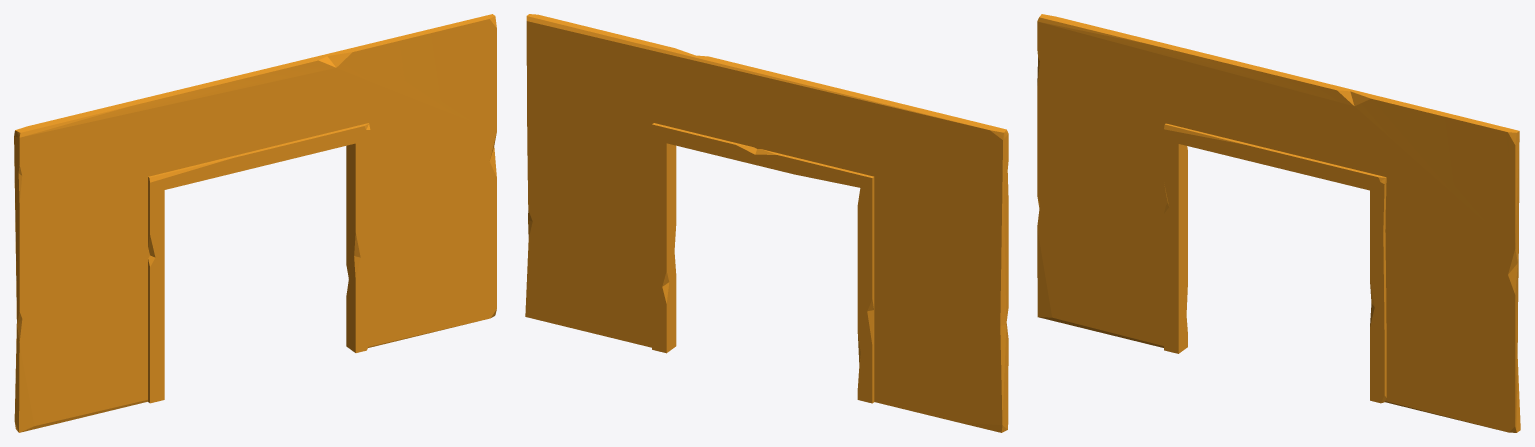
The model's file is SM_Buildings_WallDoorDouble_5x3_01P.fbx.
3 views of the same model, side by side, from view 1: azimuth 30°, elevation 25°; view 2: azimuth 150°, elevation 25°; view 3: azimuth 330°, elevation 25° (orthographic).
Visible parts, largest first — view 1: SM_Buildings_WallDoorDouble_5x3_01P; view 2: SM_Buildings_WallDoorDouble_5x3_01P; view 3: SM_Buildings_WallDoorDouble_5x3_01P.
Boxes of the visible parts, bbox=[...] form: SM_Buildings_WallDoorDouble_5x3_01P: bbox=[14, 14, 496, 432]; SM_Buildings_WallDoorDouble_5x3_01P: bbox=[525, 14, 1008, 432]; SM_Buildings_WallDoorDouble_5x3_01P: bbox=[1037, 14, 1520, 432].
Size of the model in its own units: 500 by 300 by 17.29.
